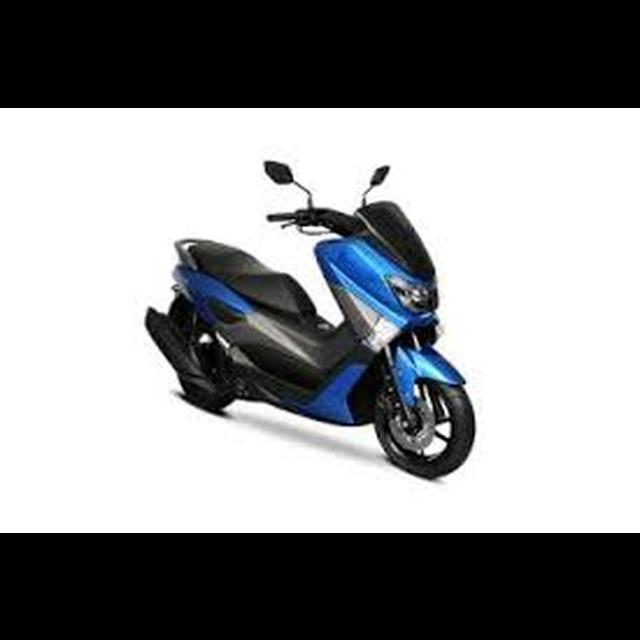motorcycle: (139, 157, 480, 481)
